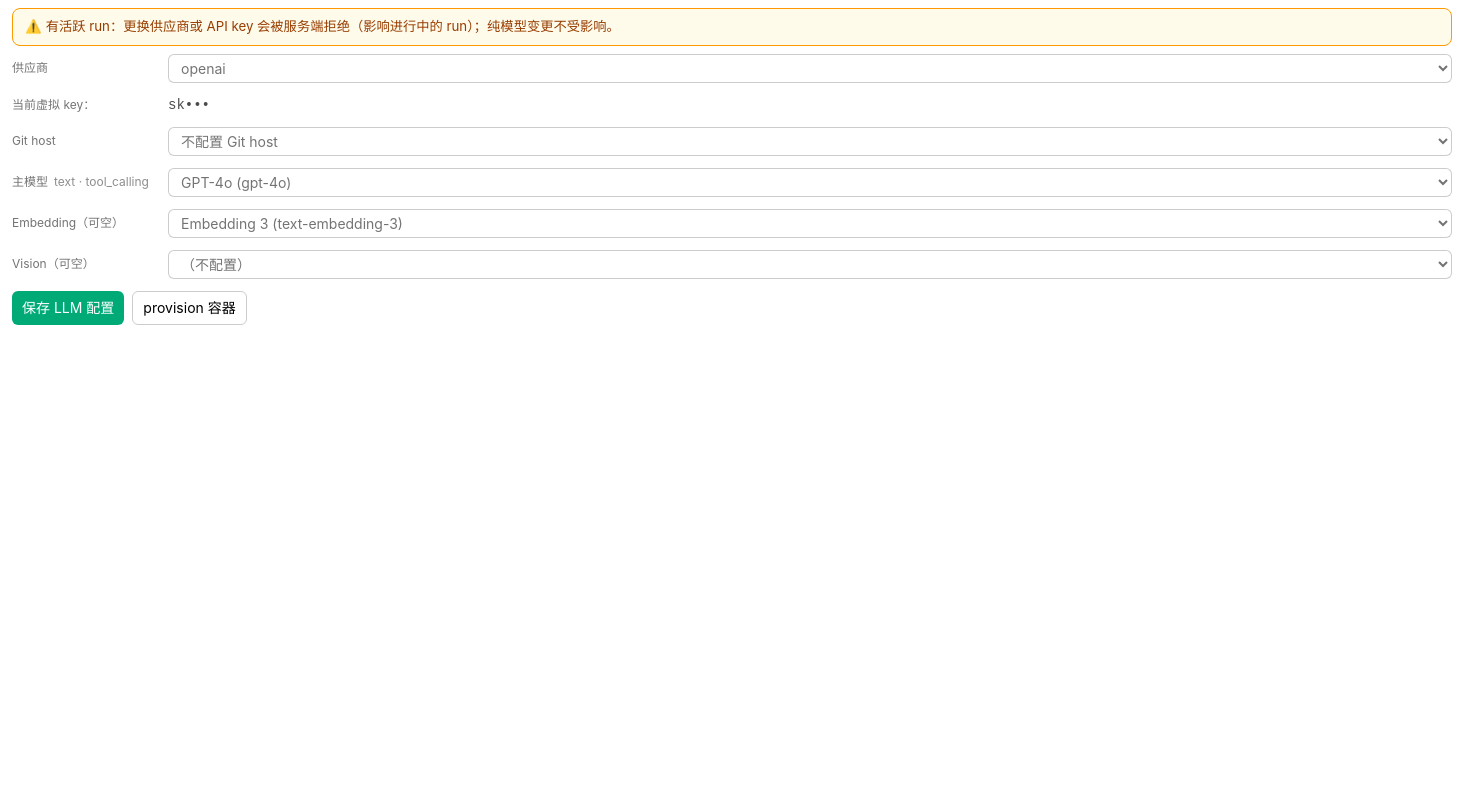
it: UserLlmPane · LLM 配置表单 › 选择 per_fde_pat host 后录入凭据；token 成功提交后清空且不再显示表单
Select "GitHub · github · 需凭据" in the dropdown with test id "git-host-select" at {"x": 810, "y": 141}, box [168,127,1452,156]
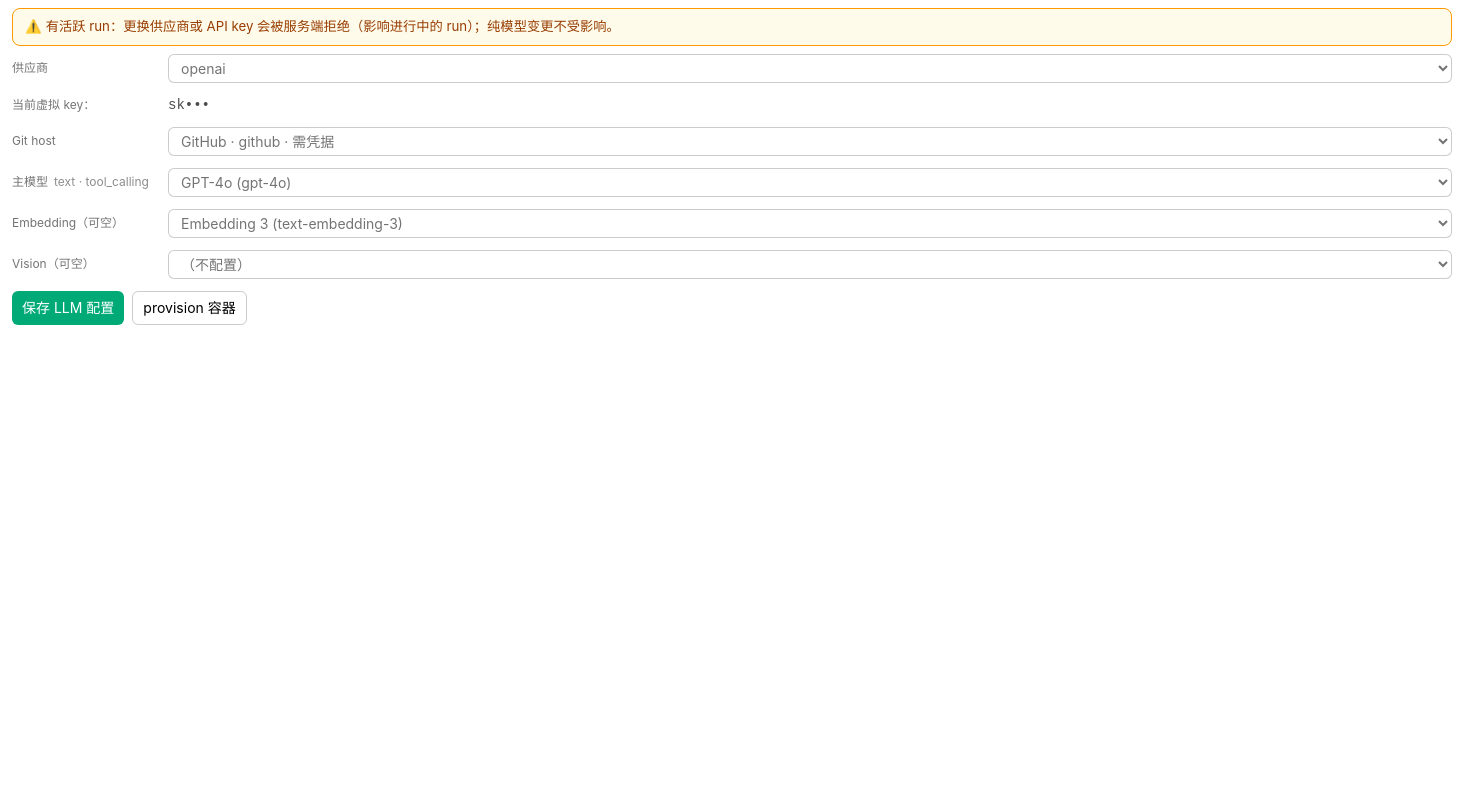
Click the button "provision 容器".
click(190, 308)  # box [132,291,247,325]
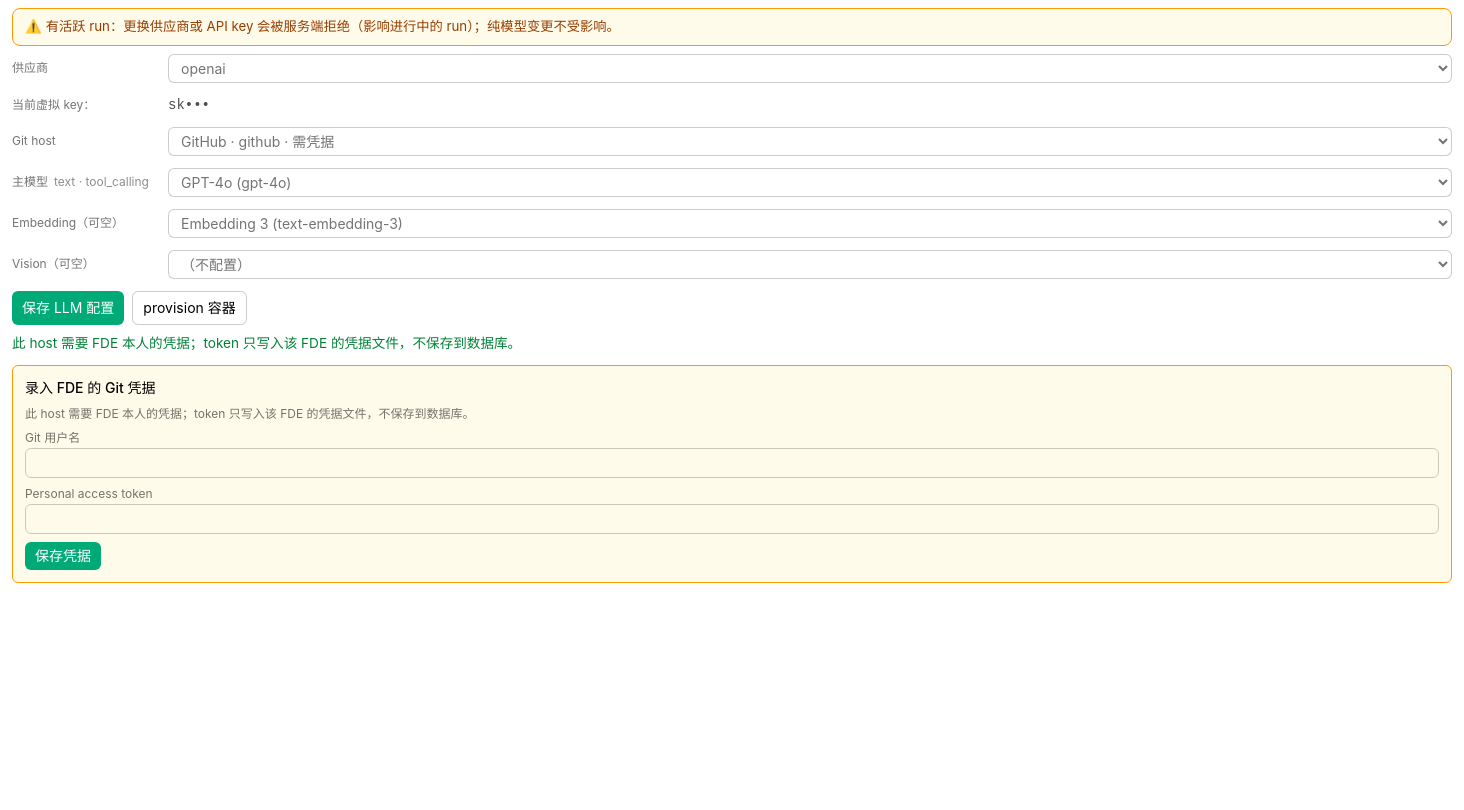
Expected: the form with test id "git-credential-form" is shown, [12,365,1452,583]
Type "alice-gh" into the field labelled "Git 用户名".
click(732, 463); type("alice-gh")  # box [25,448,1439,478]
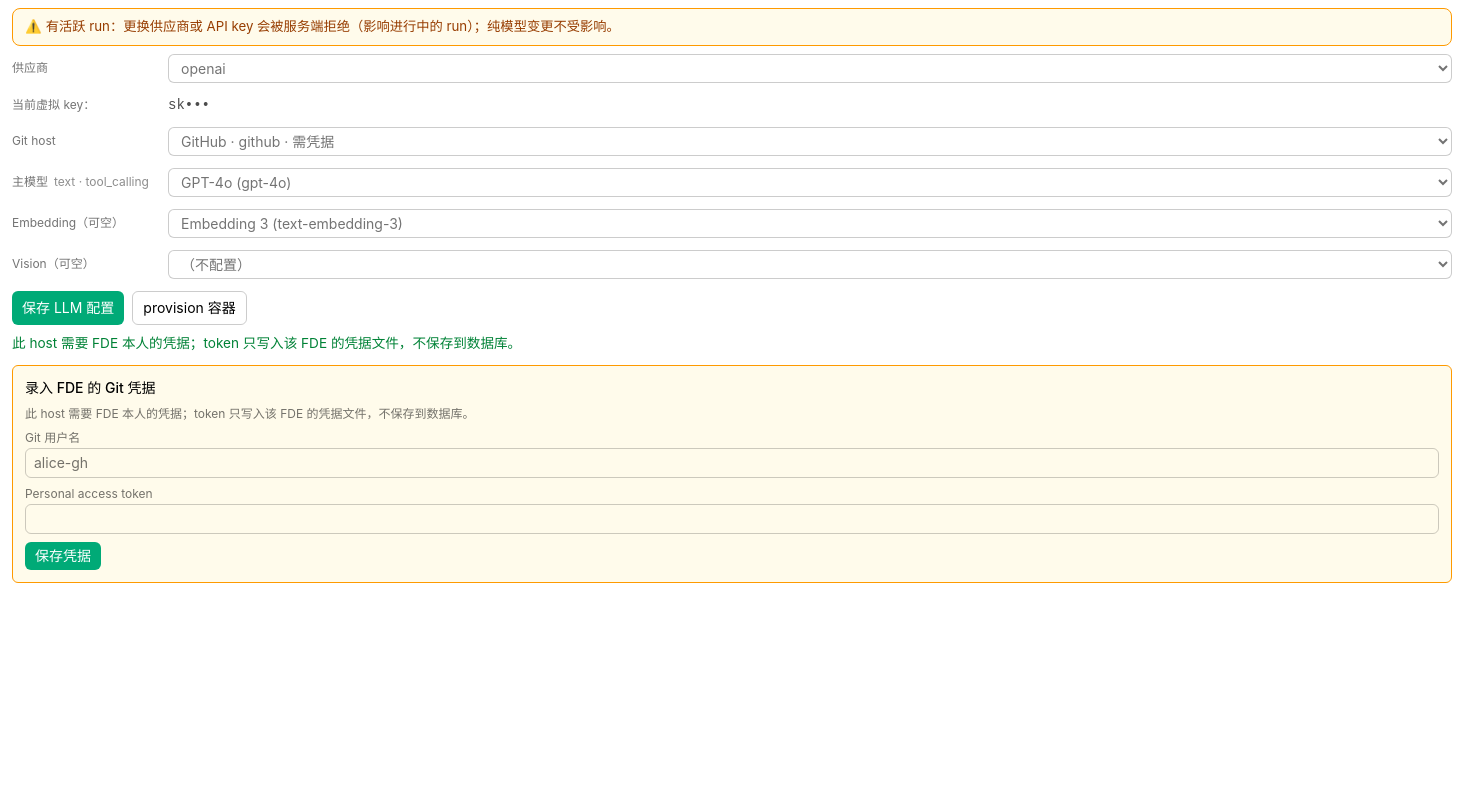
Type "ghp-secret-value" into the password field labelled "Personal access token".
click(732, 519); type("ghp-secret-value")  # box [25,504,1439,534]
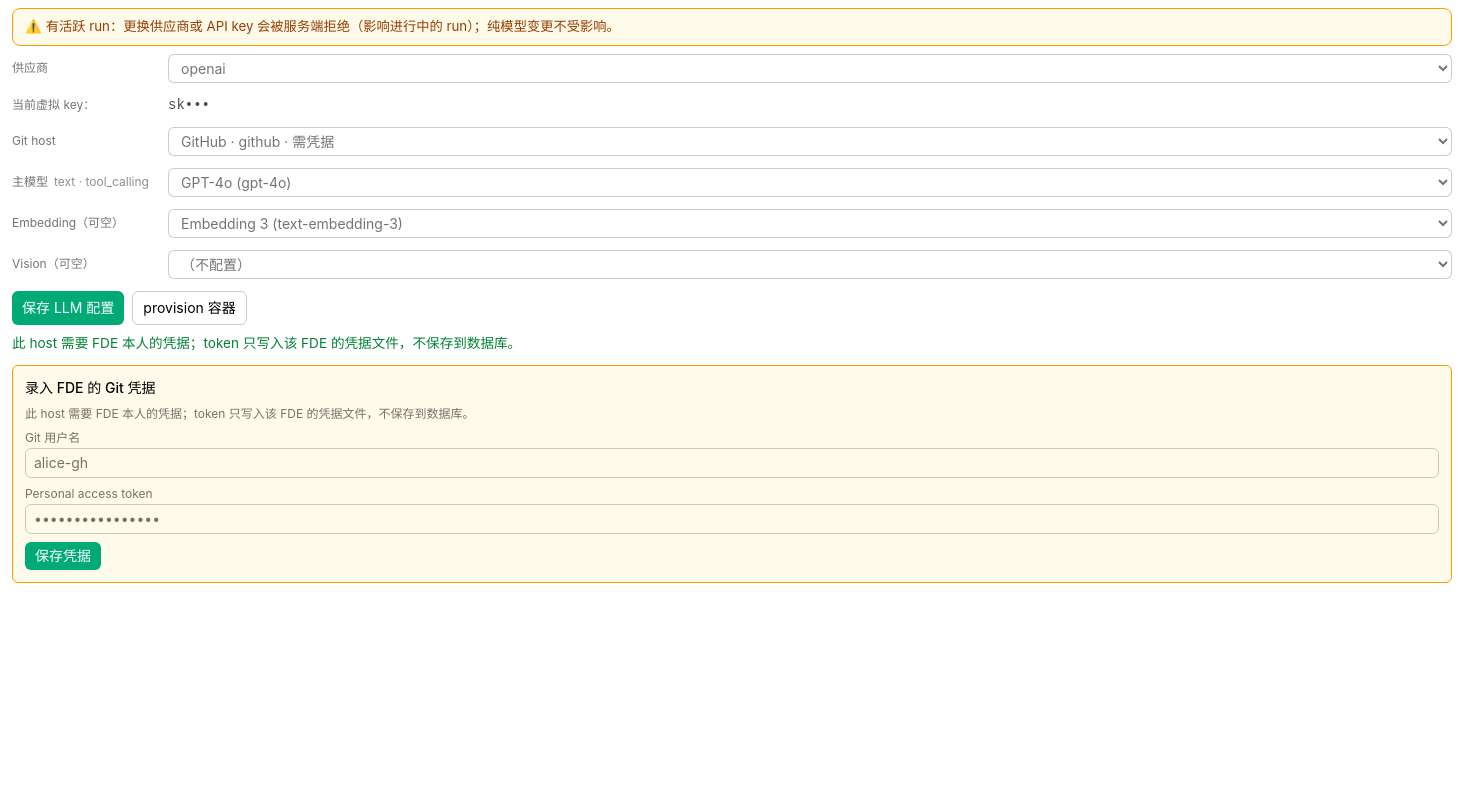
Submit the form with test id "git-credential-form", box [12,365,1452,583]
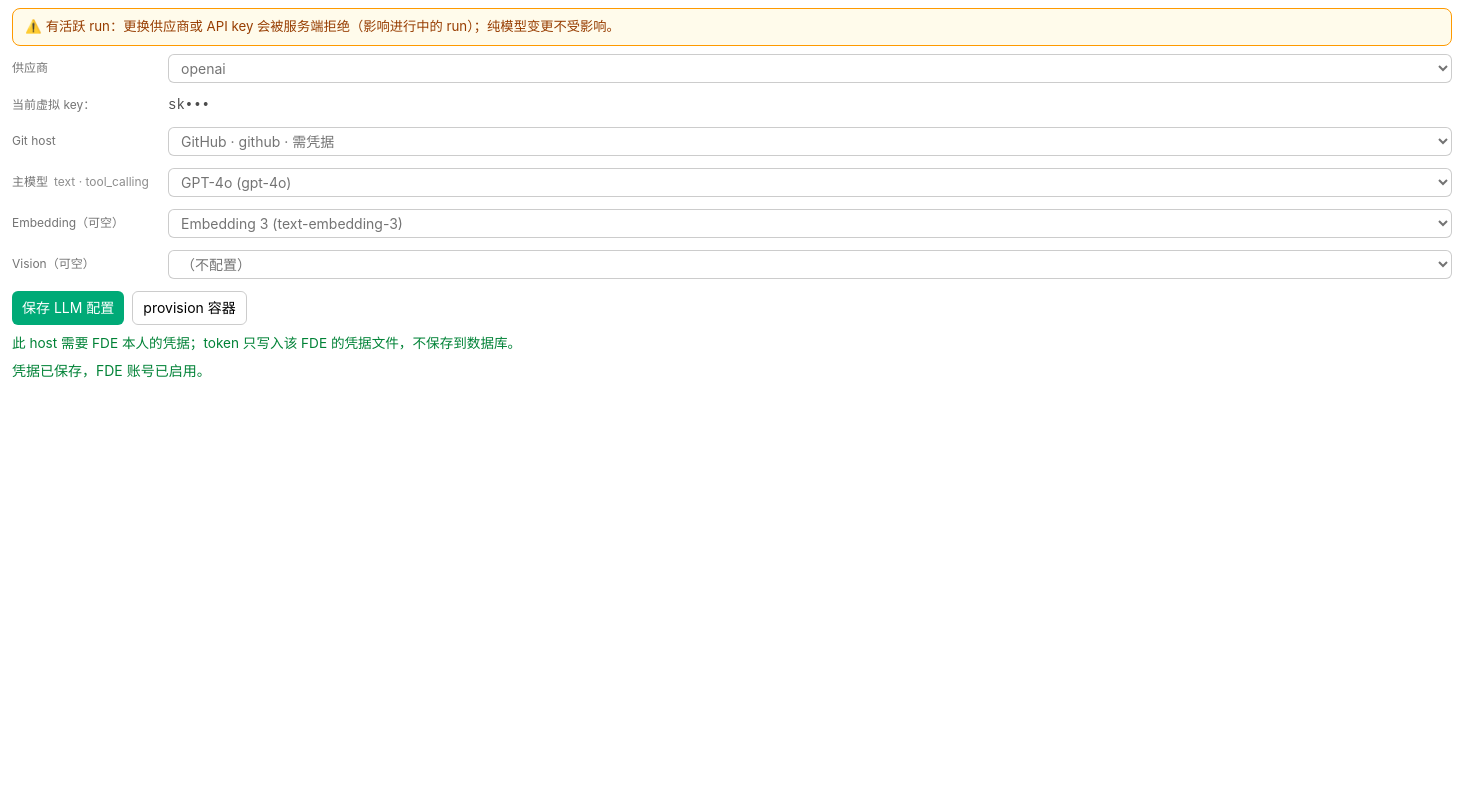
Expected: the text "凭据已保存，FDE 账号已启用。" is shown, [12,362,211,379]
